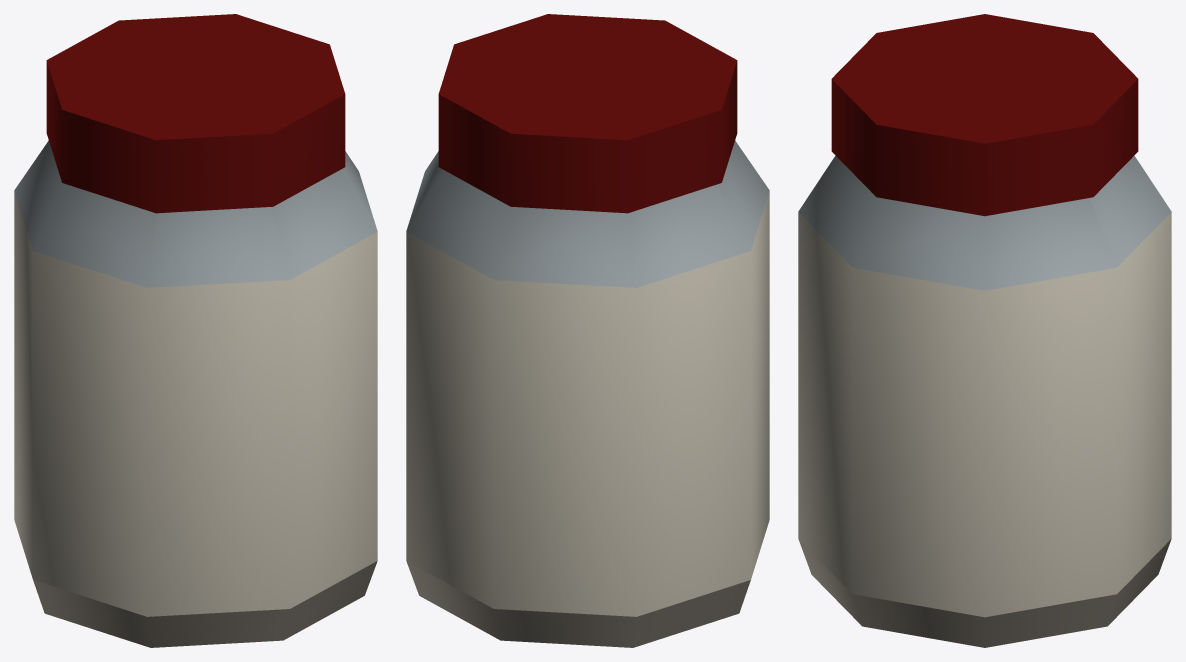
File: fm_milk_lod1.glb
The picture shows the model from 3 angles, left to right: view 1: azimuth 30°, elevation 25°; view 2: azimuth 150°, elevation 25°; view 3: azimuth 270°, elevation 25°; orthographic projection.
Parts seen in each view (by area): view 1: fm_milk_lod1; view 2: fm_milk_lod1; view 3: fm_milk_lod1.
Boxes of the visible parts, box(x1,y1,x2,y2) form: fm_milk_lod1: box(14, 14, 377, 647); fm_milk_lod1: box(406, 14, 769, 647); fm_milk_lod1: box(798, 14, 1171, 647).
Size of the model in its own units: 0.28 by 0.41 by 0.28.
